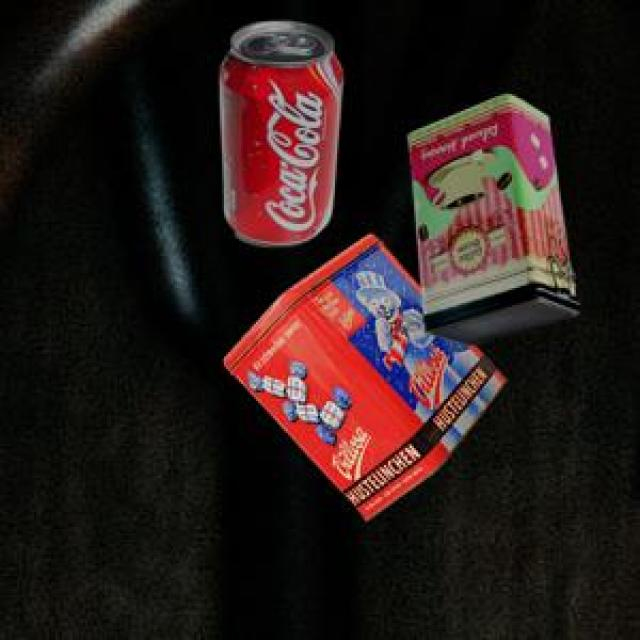logam: (221, 231, 502, 517), (404, 91, 575, 342), (217, 18, 340, 244)
